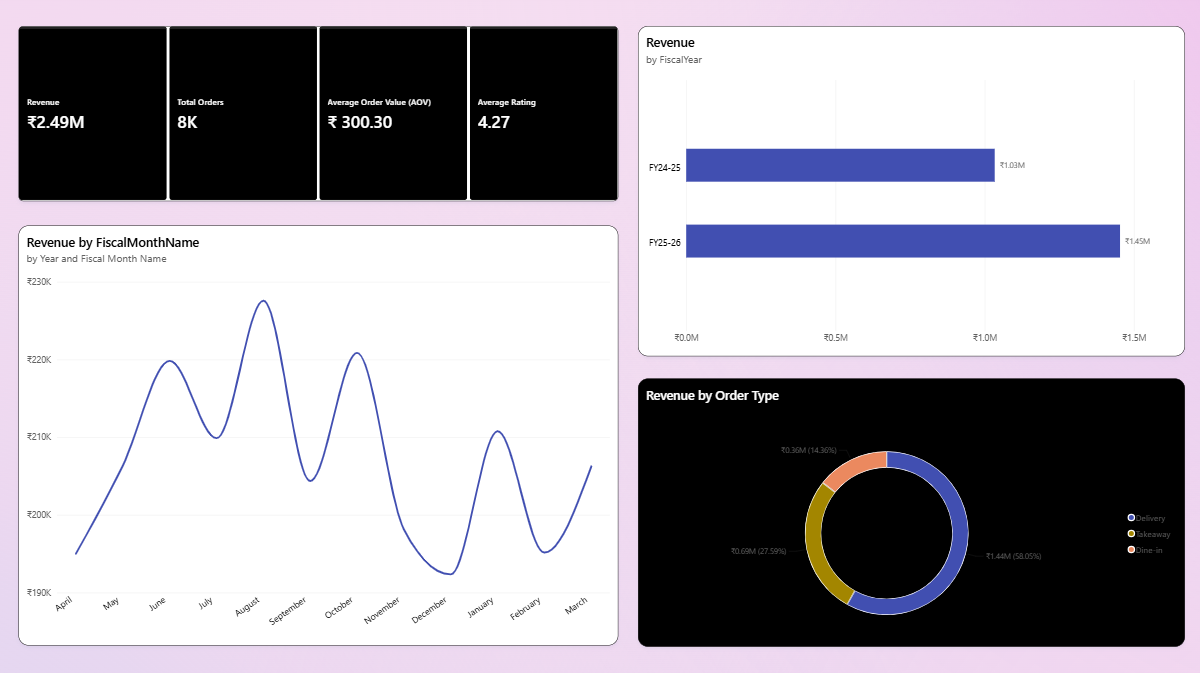

The dashboard page shown, as its layout file describes it:
{"tool":"powerbi","page":{"name":"Sales Performance","canvas":[1920,1080],"ordinal":0},"visuals":[{"type":"cardVisual","fields":{"Data":["Key Measures Table.Revenue","Key Measures Table.Total Orders","Key Measures Table.Average Order Value (AOV)","Key Measures Table.Average Rating"]},"box":[35.2,42.2,954.2,279],"z":0},{"type":"barChart","fields":{"Category":["DimDate.FiscalYear","DimDate.FiscalMonthName"],"Y":["Key Measures Table.Revenue"]},"box":[1022.2,42.2,869.8,525.2],"z":1000},{"type":"lineChart","fields":{"Category":["DimDate.FiscalYear","DimDate.FiscalMonthName"],"Y":["Key Measures Table.Revenue"]},"box":[35.2,361.1,954.2,668.2],"z":2000},{"type":"donutChart","title":"Revenue by Order Type","fields":{"Category":["Consolidated Sales.Order_Type"],"Y":["Key Measures Table.Revenue"]},"box":[1022.2,602.5,869.8,426.7],"z":3000}]}

Visuals, with their boxes in screenshot pixels (x1, y1, x2, y2), scaled from the page's 1920x1080 canvas onto the 1200x673 screenshot:
cardVisual - Key Measures Table.Revenue x Key Measures Table.Total Orders: {"x1": 22, "y1": 26, "x2": 618, "y2": 200}
barChart - DimDate.FiscalYear x DimDate.FiscalMonthName: {"x1": 639, "y1": 26, "x2": 1182, "y2": 354}
lineChart - DimDate.FiscalYear x DimDate.FiscalMonthName: {"x1": 22, "y1": 225, "x2": 618, "y2": 641}
"Revenue by Order Type" donutChart: {"x1": 639, "y1": 375, "x2": 1182, "y2": 641}
